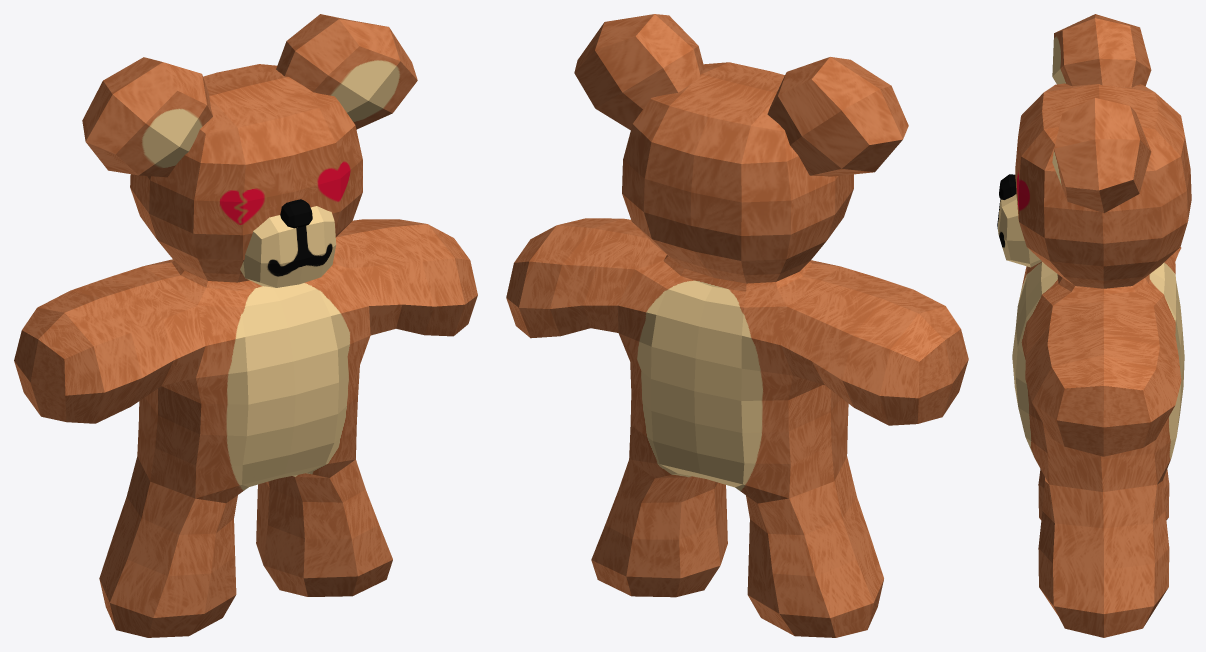
The model's file is TeddyBear.fbx.
The picture shows the model from 3 angles, left to right: view 1: azimuth 30°, elevation 25°; view 2: azimuth 150°, elevation 25°; view 3: azimuth 270°, elevation 25°; orthographic projection. The views are drawn at different scales.
Visible parts, largest first — view 1: Bear; view 2: Bear; view 3: Bear.
Part boxes in pixels (<box>): Bear: <box>14,14,477,637</box>; Bear: <box>506,14,968,637</box>; Bear: <box>997,14,1191,637</box>.
Size of the model in its own units: 54.18 by 68.52 by 22.76.
